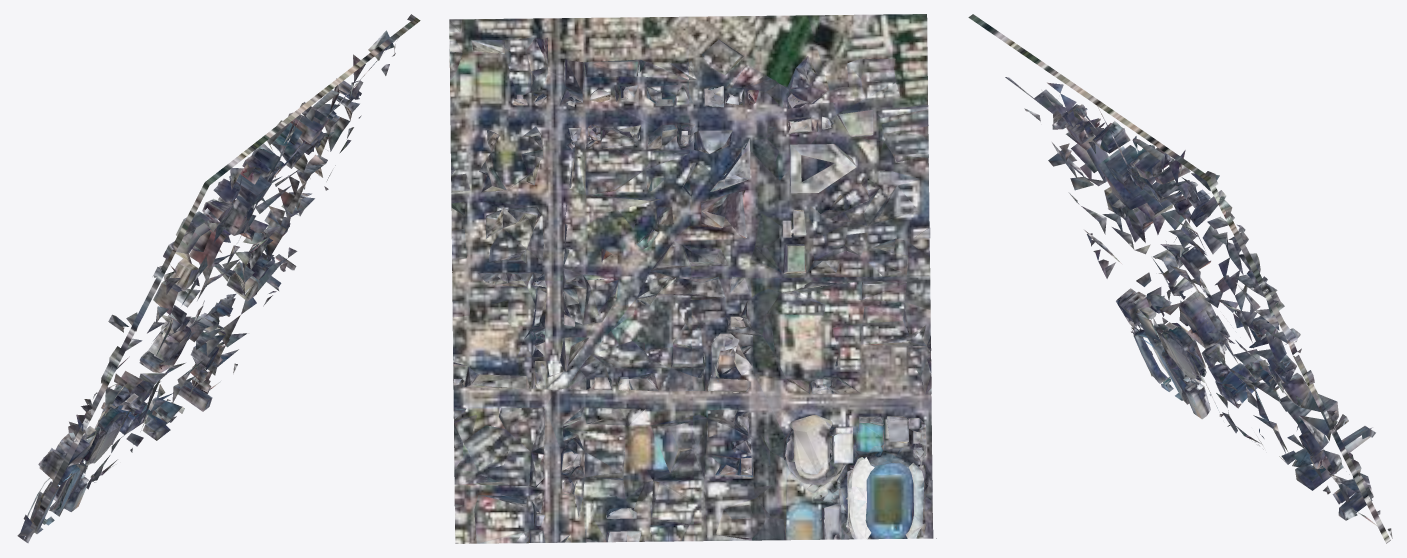
3 renders of one model, left to right at view 1: azimuth 30°, elevation 25°; view 2: azimuth 150°, elevation 25°; view 3: azimuth 270°, elevation 25°, orthographic. The views are drawn at different scales.
Bounding box in the file's own units: 1244 × 1126 × 1035.
Materials: 1 (1 with a texture image).
